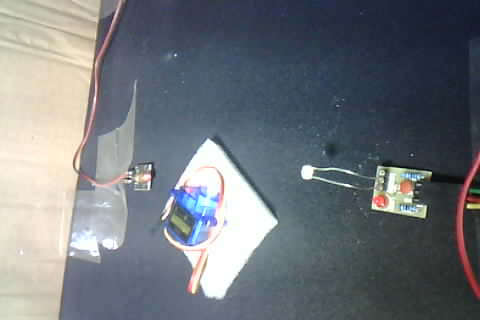motor: (153, 144, 265, 301)
